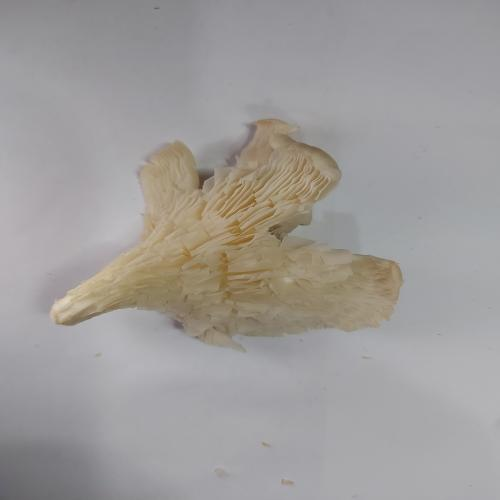Oyster Mushroom: (49, 117, 404, 353)
